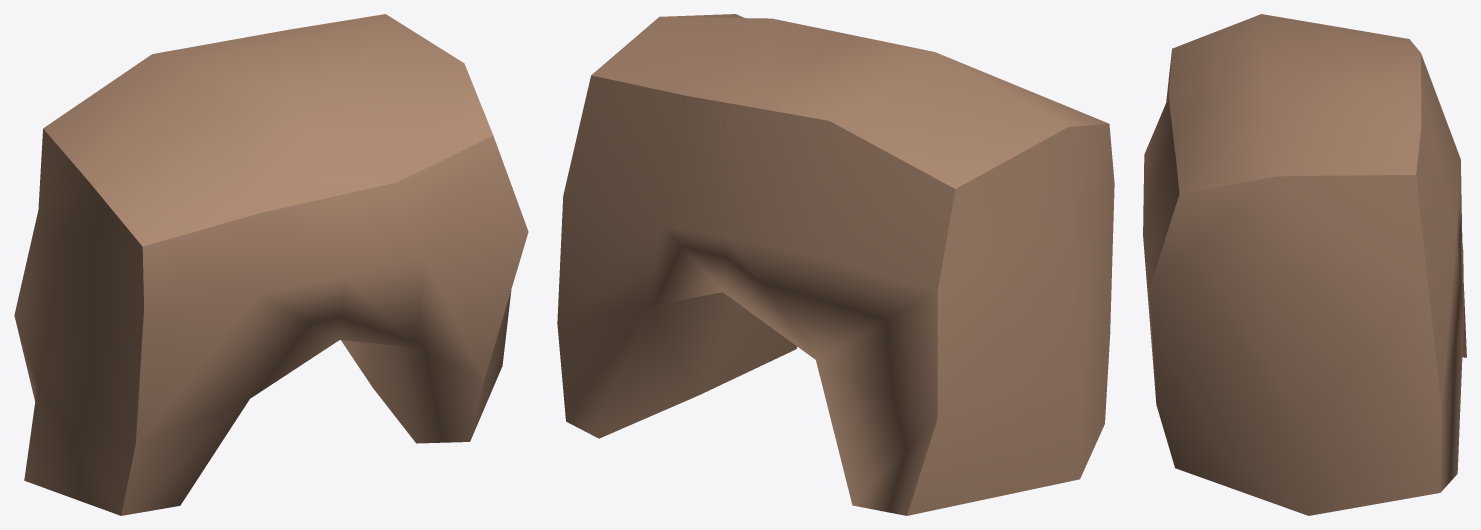
File: CI_Coral.fbx
3 renders of one model, left to right at view 1: azimuth 30°, elevation 25°; view 2: azimuth 150°, elevation 25°; view 3: azimuth 270°, elevation 25°, orthographic. The views are drawn at different scales.
Visible parts, largest first — view 1: CI_Coral; view 2: CI_Coral; view 3: CI_Coral.
Boxes of the visible parts, <box> form: CI_Coral: <box>14,14,528,515</box>; CI_Coral: <box>557,14,1114,515</box>; CI_Coral: <box>1143,14,1466,515</box>.
Bounding box in the file's own units: 23.34 × 16.37 × 14.29.
